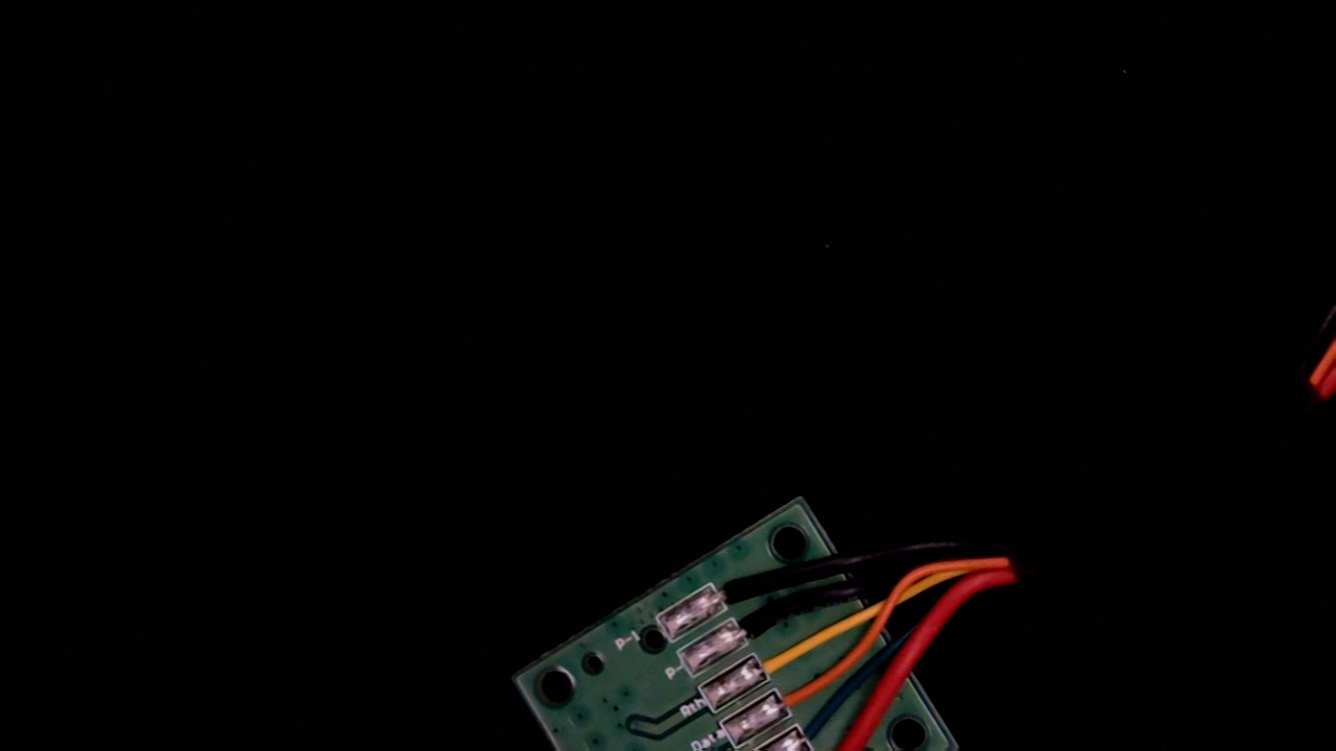Black: (719, 593, 794, 657)
Black1: (695, 554, 772, 619)
Green: (781, 700, 853, 751)
Orange: (760, 667, 831, 729)
Red: (804, 730, 886, 751)
Yellow: (738, 631, 813, 693)
